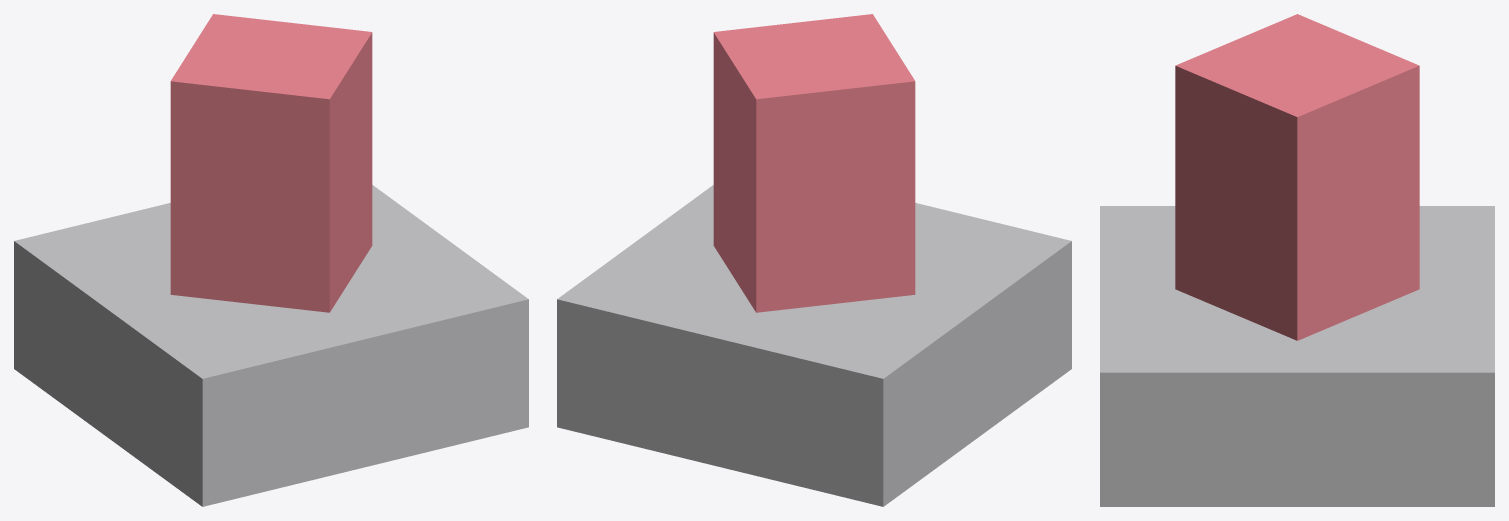
File: modelo_con_luz.glb
The picture shows the model from 3 angles, left to right: view 1: azimuth 30°, elevation 25°; view 2: azimuth 150°, elevation 25°; view 3: azimuth 270°, elevation 25°; orthographic projection. The views are drawn at different scales.
Visible parts, largest first — view 1: Pedestal, Figura; view 2: Pedestal, Figura; view 3: Pedestal, Figura.
Part boxes in pixels (<box>): Pedestal: <box>14,185,528,506</box>; Figura: <box>170,14,372,312</box>; Pedestal: <box>557,185,1071,506</box>; Figura: <box>713,14,915,312</box>; Pedestal: <box>1100,206,1494,506</box>; Figura: <box>1175,14,1419,340</box>.
Bounding box in the file's own units: 1.6 × 1.6 × 1.6.
